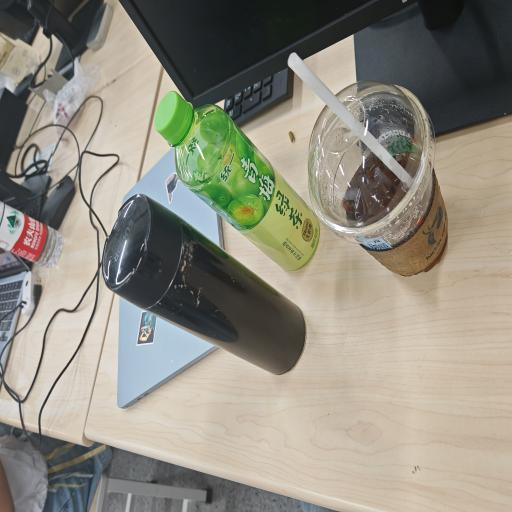laptop: (115, 145, 229, 408)
mouse: (39, 170, 77, 230)
